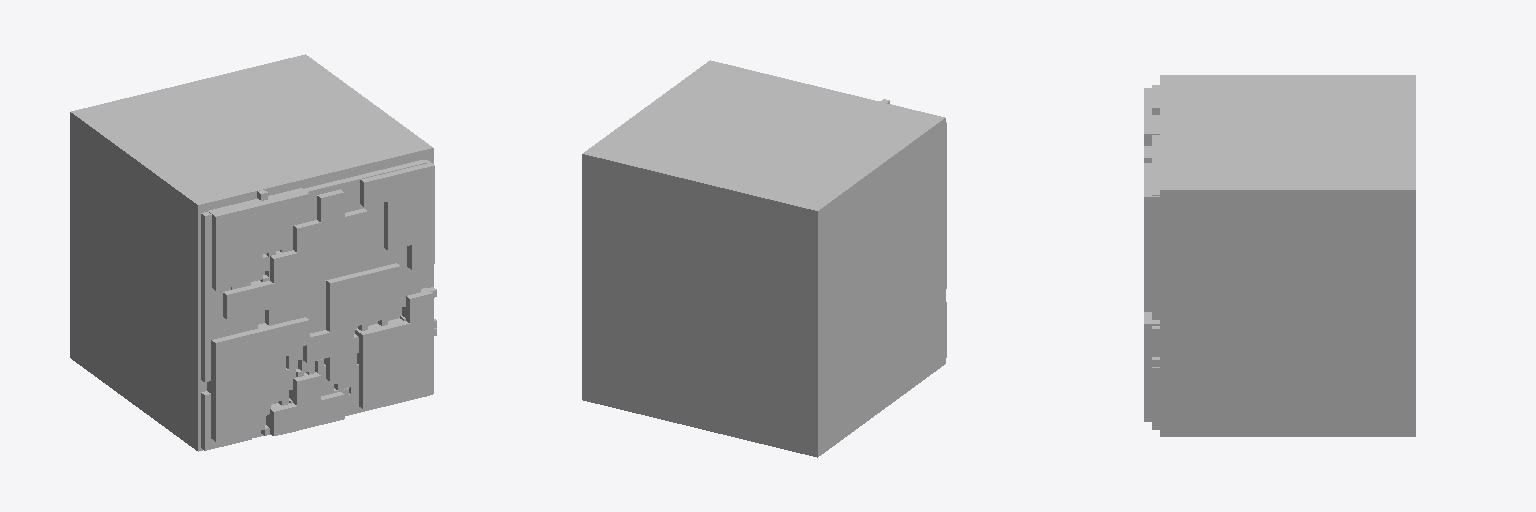
Rendered from core_back.obj.
The picture shows the model from 3 angles: view 1: azimuth 30°, elevation 25°; view 2: azimuth 150°, elevation 25°; view 3: azimuth 270°, elevation 25°; orthographic projection.
Visible parts, largest first — view 1: Cube.001; view 2: Cube.001; view 3: Cube.001.
Boxes of the visible parts, box(x1,y1,x2,y2) form: Cube.001: box(70, 54, 436, 451); Cube.001: box(582, 60, 946, 457); Cube.001: box(1144, 75, 1415, 436).
Bounding box in the file's own units: 1 × 1 × 0.9999.